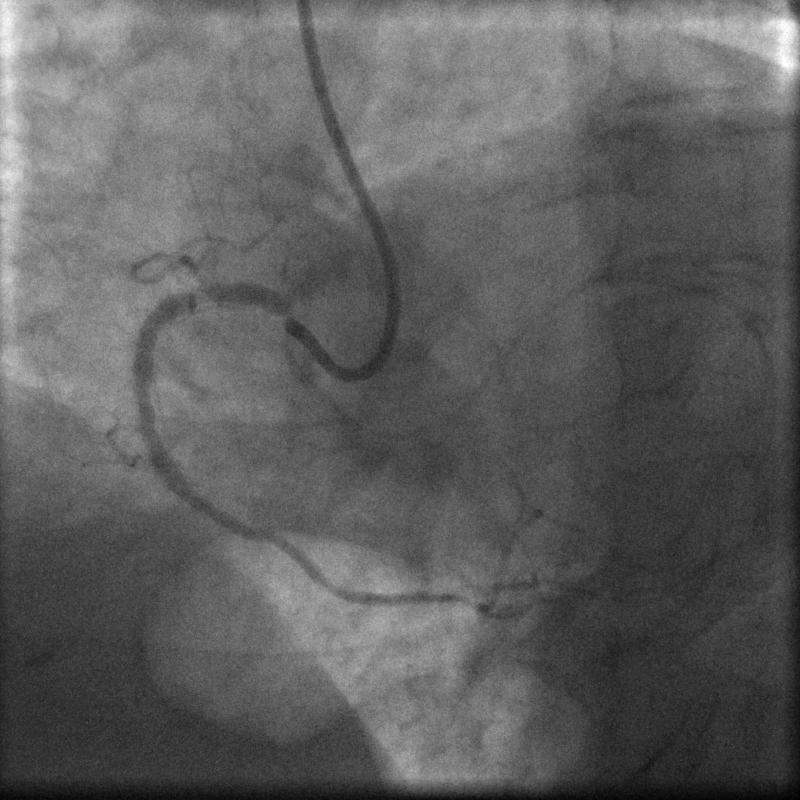Stenosis: (129, 371, 165, 431)
